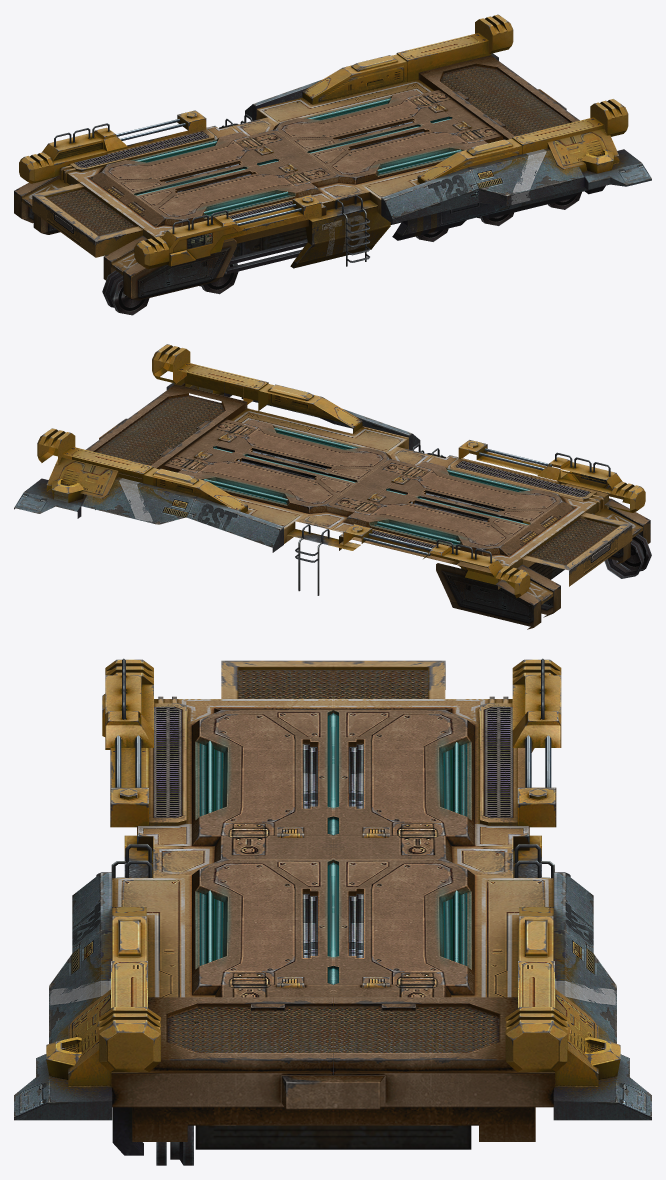
Rendered from fb_suidao_lieche01.FBX.
The picture shows the model from 3 angles, top to bottom: view 1: azimuth 30°, elevation 25°; view 2: azimuth 150°, elevation 25°; view 3: azimuth 270°, elevation 25°; orthographic projection. The views are drawn at different scales.
Visible parts, largest first — view 1: fb_suidao_lieche01; view 2: fb_suidao_lieche01; view 3: fb_suidao_lieche01.
Boxes of the visible parts, x1=… form: fb_suidao_lieche01: x1=14, y1=14, x2=651, y2=315; fb_suidao_lieche01: x1=14, y1=344, x2=651, y2=629; fb_suidao_lieche01: x1=14, y1=658, x2=651, y2=1165.
Size of the model in its own units: 1626 by 316 by 1014.
